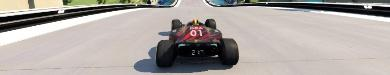Car: (155, 18, 238, 66)
curve: (0, 3, 389, 72)
